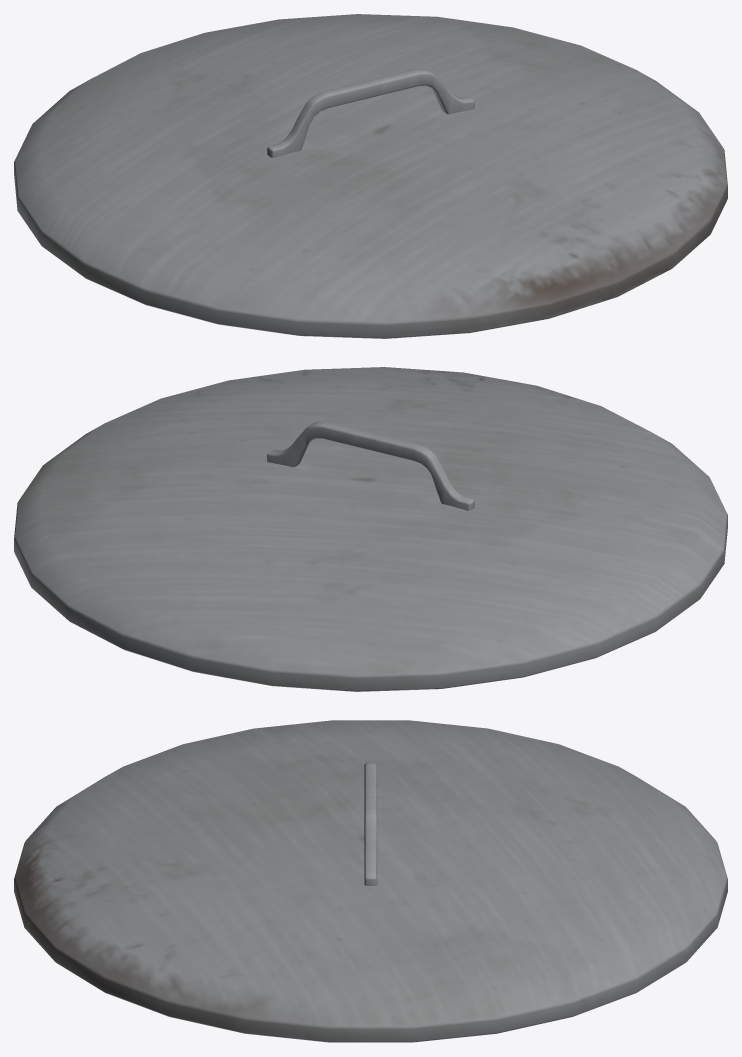
Rendered from SM_Cooking_Pot_Tape.fbx.
3 views of the same model, one above another, from view 1: azimuth 30°, elevation 25°; view 2: azimuth 150°, elevation 25°; view 3: azimuth 270°, elevation 25° (orthographic).
Parts seen in each view (by area): view 1: SM_Cooking_Pot_Tape_LOD0; view 2: SM_Cooking_Pot_Tape_LOD0; view 3: SM_Cooking_Pot_Tape_LOD0.
Part boxes in pixels (x1,y1,x2,y2): SM_Cooking_Pot_Tape_LOD0: (14, 14, 727, 338); SM_Cooking_Pot_Tape_LOD0: (14, 367, 727, 691); SM_Cooking_Pot_Tape_LOD0: (14, 720, 727, 1042).
Size of the model in its own units: 29.86 by 30.08 by 4.95.
Materials: 1 (1 with a texture image).
